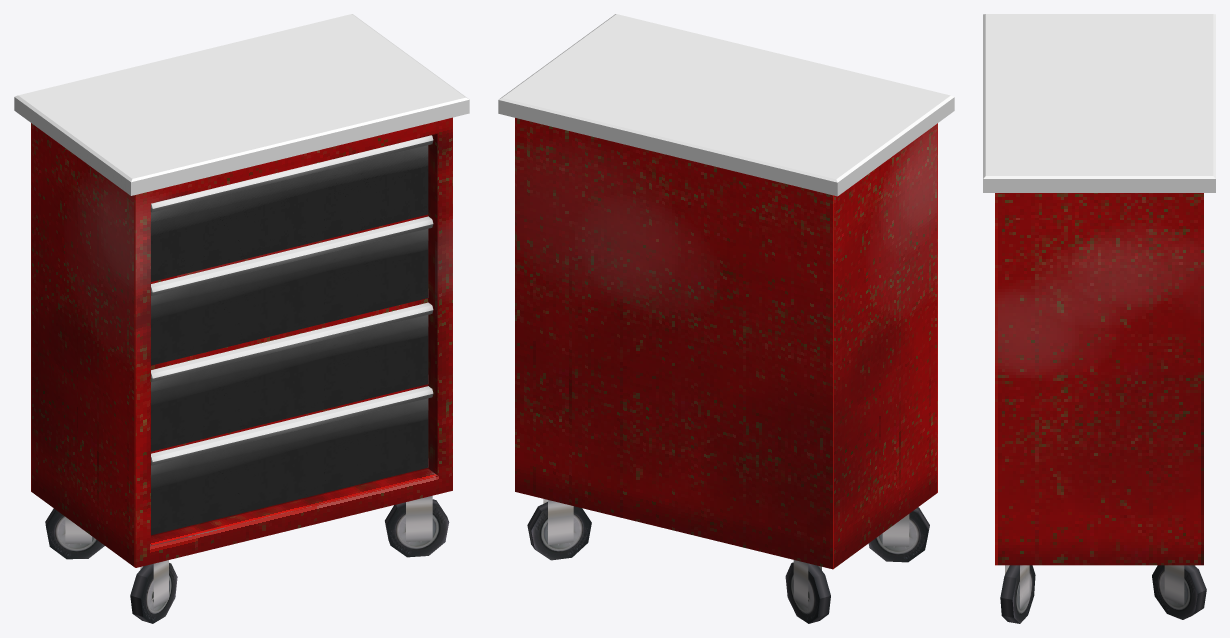
File: rolling tool chest.glb
3 renders of one model, left to right at view 1: azimuth 30°, elevation 25°; view 2: azimuth 150°, elevation 25°; view 3: azimuth 270°, elevation 25°, orthographic.
Visible parts, largest first — view 1: drawers, tool chest, tool chest top, drawer handles, wheel 3, wheel 1, wheel 2; view 2: tool chest, tool chest top, wheel 4, wheel 2, wheel 1; view 3: tool chest, tool chest top, wheel 4, wheel 3.
Part boxes in pixels (x1,y1,x2,y2): drawers: [151, 145, 428, 535]; tool chest: [31, 117, 452, 567]; tool chest top: [14, 14, 469, 195]; drawer handles: [151, 135, 433, 465]; wheel 3: [385, 495, 449, 557]; wheel 1: [130, 560, 177, 623]; wheel 2: [45, 508, 104, 559]; tool chest: [515, 118, 937, 569]; tool chest top: [498, 14, 954, 196]; wheel 4: [527, 499, 591, 560]; wheel 2: [785, 560, 830, 623]; wheel 1: [868, 507, 929, 562]; tool chest: [995, 193, 1203, 565]; tool chest top: [983, 14, 1215, 192]; wheel 4: [1152, 565, 1206, 619]; wheel 3: [1000, 565, 1035, 623].
Bounding box in the file's own units: 3.73 × 4.85 × 2.23.
Materials: 6 (5 with a texture image).
